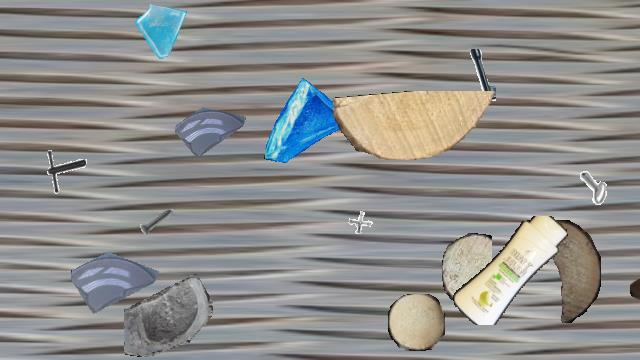glass: (262, 77, 356, 171), (124, 271, 212, 359), (71, 234, 159, 322), (175, 91, 247, 163), (134, 1, 192, 59)
metal: (438, 49, 496, 107), (579, 152, 633, 206), (38, 147, 86, 195), (136, 201, 178, 243), (342, 203, 382, 243), (638, 152, 640, 198)
plastic: (450, 216, 572, 324)
wood: (333, 91, 499, 159), (529, 220, 601, 322), (442, 233, 492, 305), (388, 294, 444, 350), (630, 244, 640, 318)
